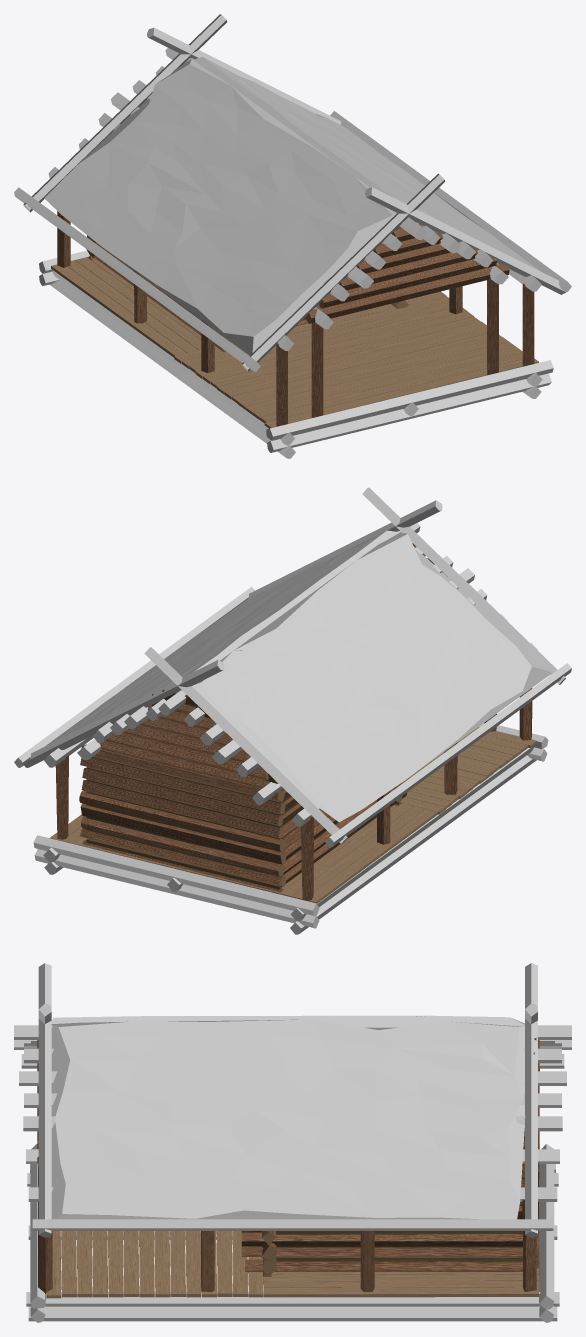
File: izbushka_LOD3.fbx
3 renders of one model, top to bottom at view 1: azimuth 30°, elevation 25°; view 2: azimuth 150°, elevation 25°; view 3: azimuth 270°, elevation 25°, orthographic. The views are drawn at different scales.
Visible parts, largest first — view 1: Куб.003, Куб.002, Цилиндр.003, Цилиндр, Цилиндр.014, Цилиндр.008, Цилиндр.017, Цилиндр.041, Цилиндр.022, Цилиндр.016, Цилиндр.015, Цилиндр.023 (+27 smaller); view 2: Куб.003, Куб.002, Цилиндр.006, Цилиндр.001, Цилиндр.014, Цилиндр.008, Цилиндр.041, Цилиндр.045, Цилиндр.044, Цилиндр.017, Цилиндр.043, Цилиндр.040 (+21 smaller); view 3: Куб.002, Цилиндр.005, Цилиндр.015, Цилиндр.002, Цилиндр.016, Цилиндр.051, Куб.003, Цилиндр.040, Цилиндр.020, Куб.049, Цилиндр.050, Цилиндр.006 (+32 smaller).
Part boxes in pixels (x1=…): Куб.003: x1=44, y1=58, x2=396, y2=355; Куб.002: x1=194, y1=57, x2=540, y2=271; Цилиндр.003: x1=266, y1=360, x2=553, y2=440; Цилиндр: x1=267, y1=373, x2=551, y2=452; Цилиндр.014: x1=14, y1=187, x2=260, y2=371; Цилиндр.008: x1=50, y1=280, x2=295, y2=458; Цилиндр.017: x1=241, y1=173, x2=444, y2=371; Цилиндр.041: x1=23, y1=14, x2=226, y2=212; Цилиндр.022: x1=305, y1=264, x2=509, y2=323; Цилиндр.016: x1=365, y1=187, x2=566, y2=294; Цилиндр.015: x1=330, y1=111, x2=571, y2=291; Цилиндр.023: x1=319, y1=257, x2=496, y2=308; Куб.003: x1=192, y1=531, x2=551, y2=822; Куб.002: x1=46, y1=530, x2=399, y2=745; Цилиндр.006: x1=33, y1=835, x2=319, y2=916; Цилиндр.001: x1=34, y1=849, x2=319, y2=928; Цилиндр.014: x1=325, y1=663, x2=571, y2=847; Цилиндр.008: x1=290, y1=755, x2=536, y2=934; Цилиндр.041: x1=144, y1=647, x2=347, y2=844; Цилиндр.045: x1=79, y1=790, x2=286, y2=852; Цилиндр.044: x1=80, y1=803, x2=286, y2=864; Цилиндр.017: x1=362, y1=487, x2=565, y2=684; Цилиндр.043: x1=81, y1=816, x2=284, y2=876; Цилиндр.040: x1=24, y1=660, x2=224, y2=767; Куб.002: x1=51, y1=1019, x2=524, y2=1219; Цилиндр.005: x1=28, y1=1306, x2=557, y2=1321; Цилиндр.015: x1=32, y1=1219, x2=553, y2=1230; Цилиндр.002: x1=26, y1=1292, x2=559, y2=1306; Цилиндр.016: x1=38, y1=963, x2=51, y2=1237; Цилиндр.051: x1=241, y1=1232, x2=522, y2=1246; Куб.003: x1=51, y1=1015, x2=524, y2=1027; Цилиндр.040: x1=525, y1=963, x2=537, y2=1237; Цилиндр.020: x1=245, y1=1259, x2=522, y2=1272; Куб.049: x1=264, y1=1287, x2=539, y2=1297; Цилиндр.050: x1=241, y1=1247, x2=522, y2=1256; Цилиндр.006: x1=539, y1=1144, x2=554, y2=1309.
Size of the model in its own units: 5535 by 3987 by 7388.
